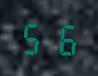five: (19, 18, 47, 55)
six: (48, 19, 76, 56)
